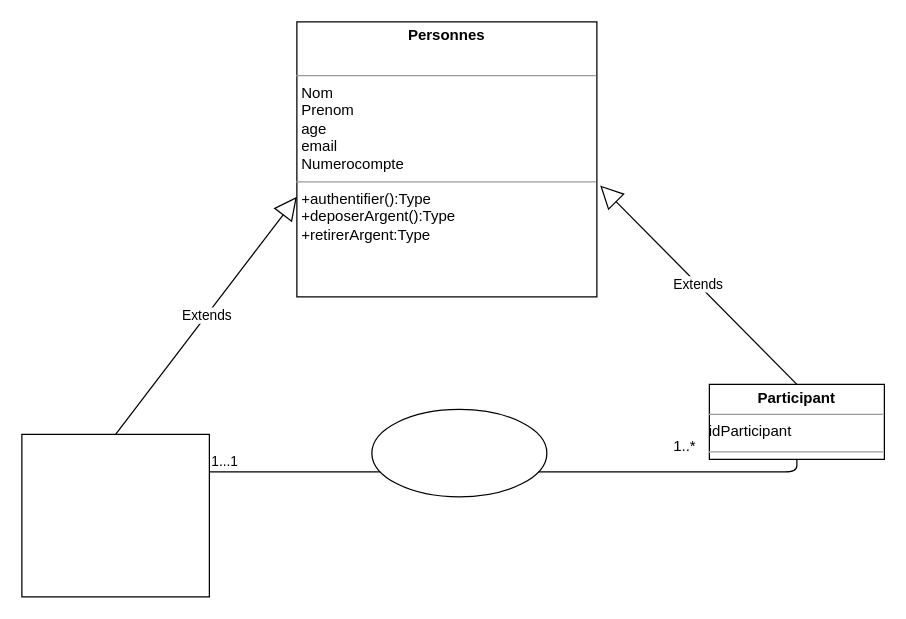
Image size: 906x619. Some labels were removed from this diagram. The shapes that lost their labels are listed below. From the top down, each one's centre as x and y in pixels, then its label:
point (459, 452): Ajouter des Participants
point (115, 515): Gerant idCompte + inscrire(): Type
